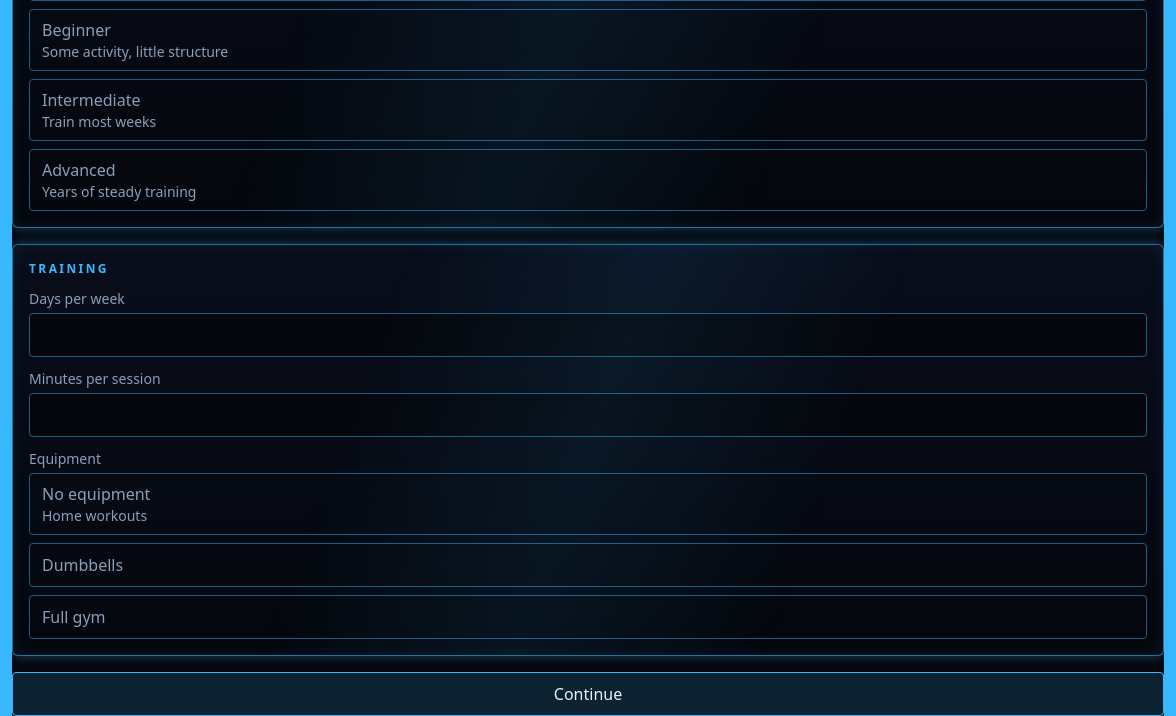
Test: ProfileForm › lists what is missing and does not submit
The width and height of the screenshot is (1176, 716).
(page scrolled)
Click the button "Continue": [588, 694] box top-left (12, 672), bottom-right (1164, 715)
(page scrolled)
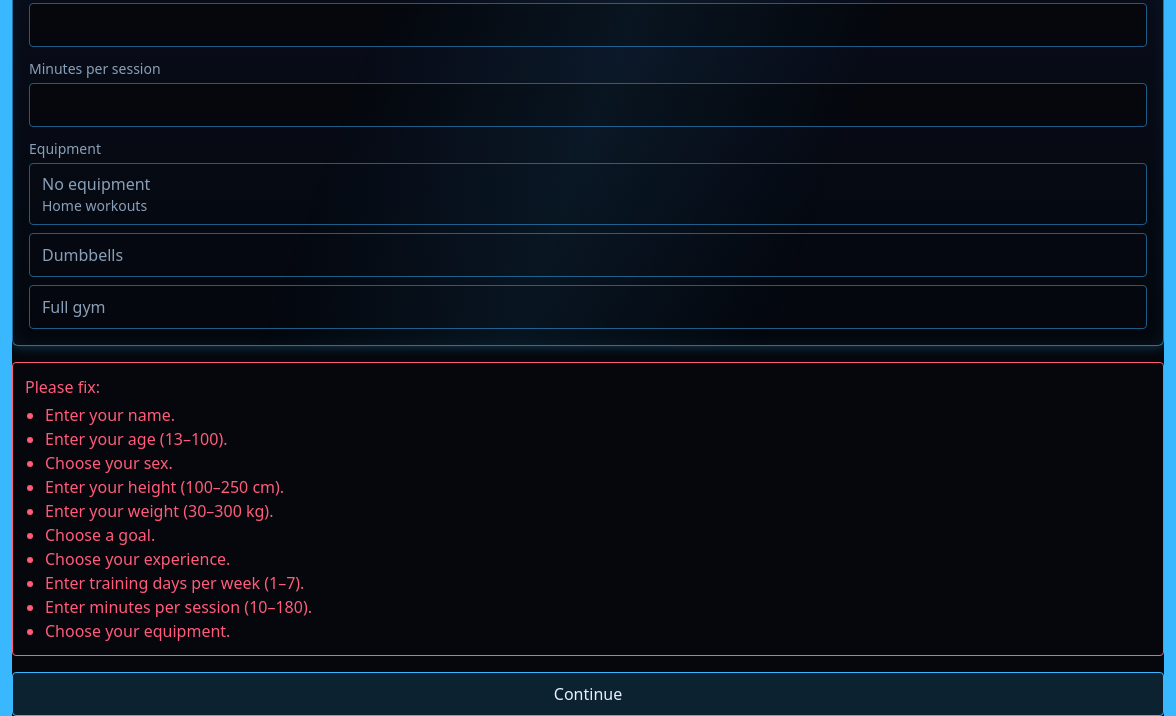
Check: the message shows "Enter your name.", box top-left (45, 404), bottom-right (175, 426)
Check: the message shows "Choose your equipment.", box top-left (45, 620), bottom-right (230, 642)
